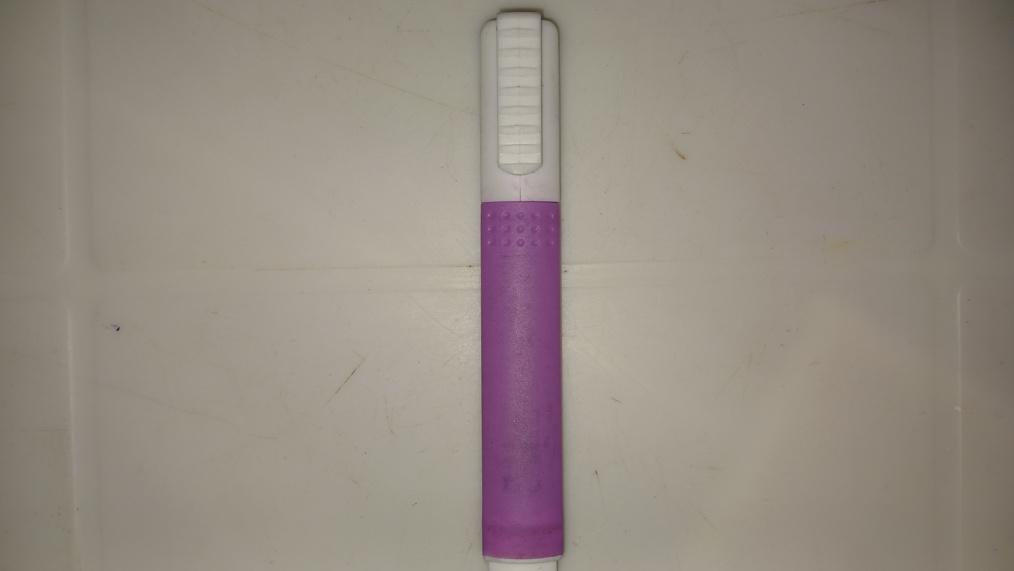Highlighter: (472, 11, 572, 571)
